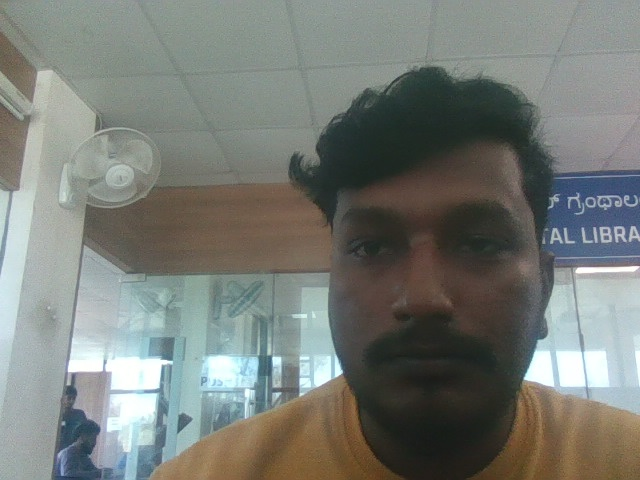real: (291, 47, 582, 460)
